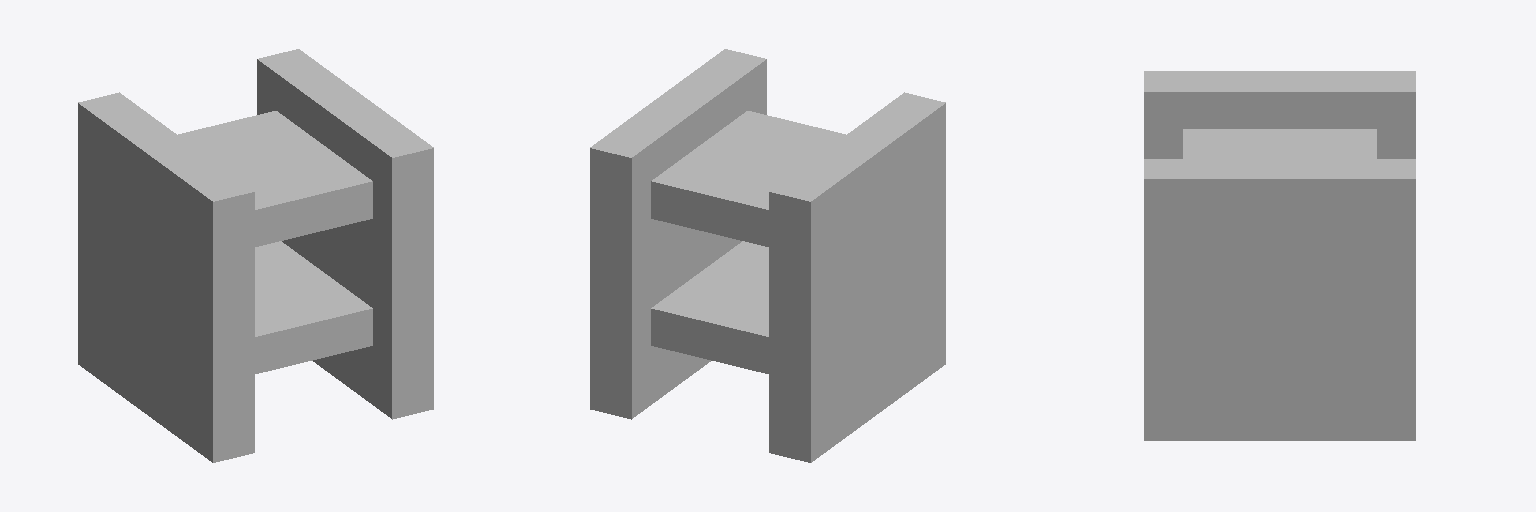
The model's file is Ladder 2 subdivisions.obj.
3 renders of one model, left to right at view 1: azimuth 30°, elevation 25°; view 2: azimuth 150°, elevation 25°; view 3: azimuth 270°, elevation 25°, orthographic.
Parts seen in each view (by area): view 1: pCube116; view 2: pCube116; view 3: pCube116.
Boxes of the visible parts, x1,y1,x2,y2 form: pCube116: [78, 49, 433, 462]; pCube116: [590, 49, 945, 462]; pCube116: [1144, 71, 1415, 440].
Bounding box in the file's own units: 0.9425 × 1.06 × 1.